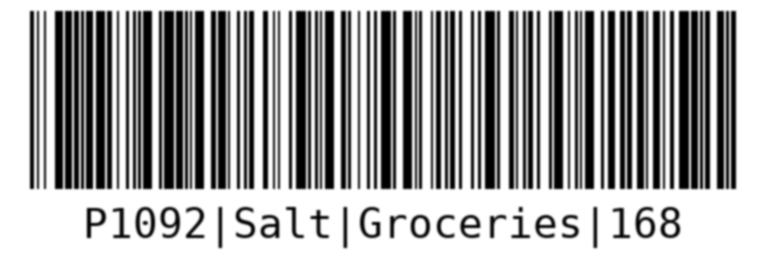milk: (21, 7, 749, 263)
